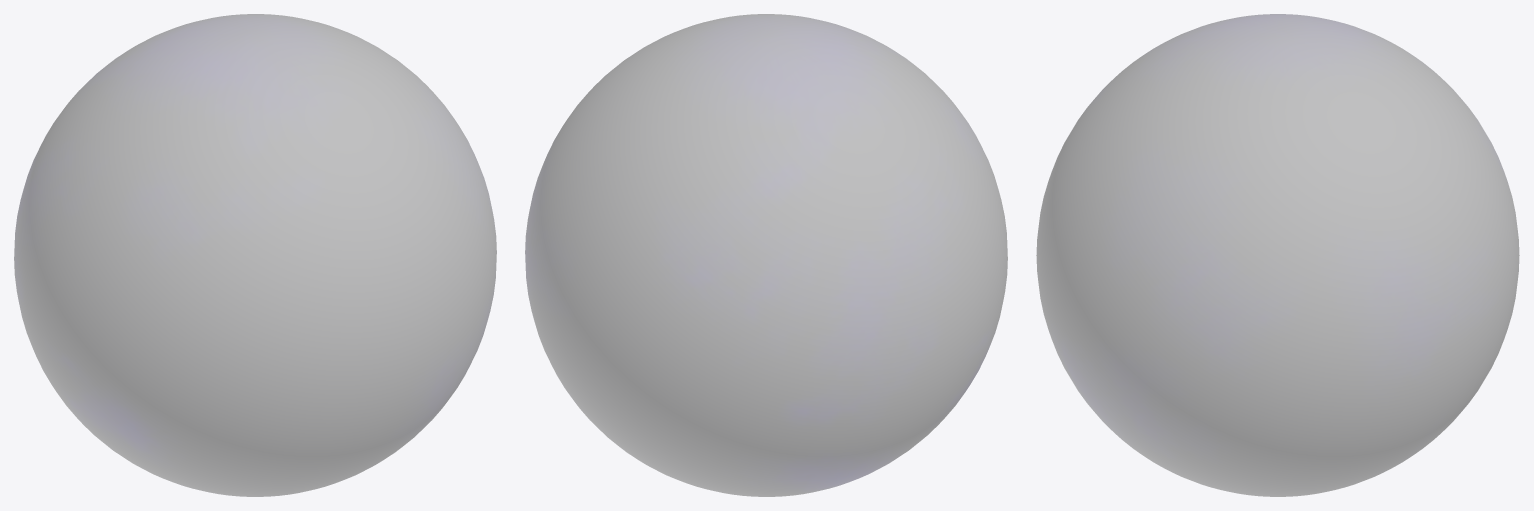
File: Mars.gltf
3 views of the same model, side by side, from view 1: azimuth 30°, elevation 25°; view 2: azimuth 150°, elevation 25°; view 3: azimuth 270°, elevation 25° (orthographic).
Parts seen in each view (by area): view 1: Clouds_Atmosphere_04; view 2: Clouds_Atmosphere_04; view 3: Clouds_Atmosphere_04.
Boxes of the visible parts, x1,y1,x2,y2 form: Clouds_Atmosphere_04: (14, 14, 496, 496); Clouds_Atmosphere_04: (525, 14, 1007, 496); Clouds_Atmosphere_04: (1036, 14, 1519, 496).
Bounding box in the file's own units: 21 × 21 × 21.
Materials: 2 (2 with a texture image).
